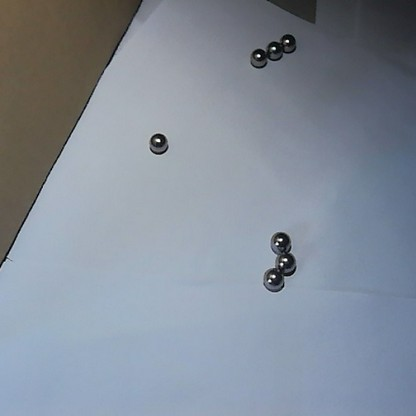ironball: (266, 226, 293, 254), (257, 267, 284, 293), (148, 130, 170, 153), (277, 32, 299, 54), (264, 39, 284, 63), (275, 253, 296, 274), (248, 46, 267, 68)
